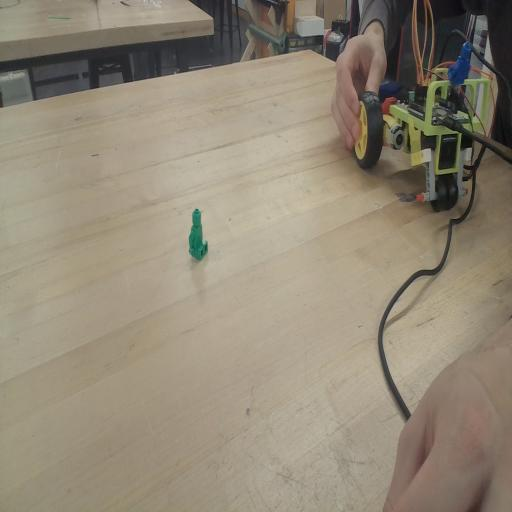blue LEGO minifig: (448, 40, 472, 86)
green LEGO minifig: (186, 204, 210, 268)
